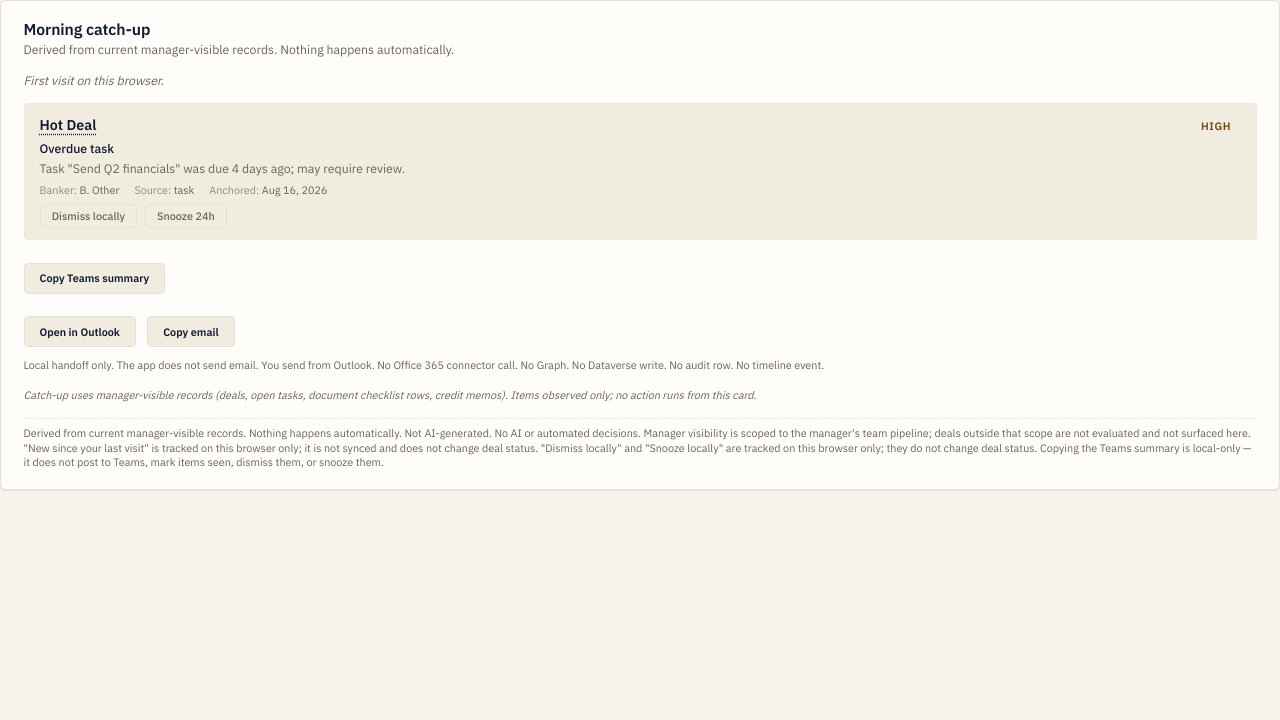
Test: ManagerMorningCatchUp — Phase 88 › Phase 98 — Copy Teams summary › shows "Clipboard unavailable. Select and copy manually." alert when clipboard is missing
Click the button with aria-label "Copy Teams summary for manager morning catch-up" at [94, 278], box [24,263,165,294]
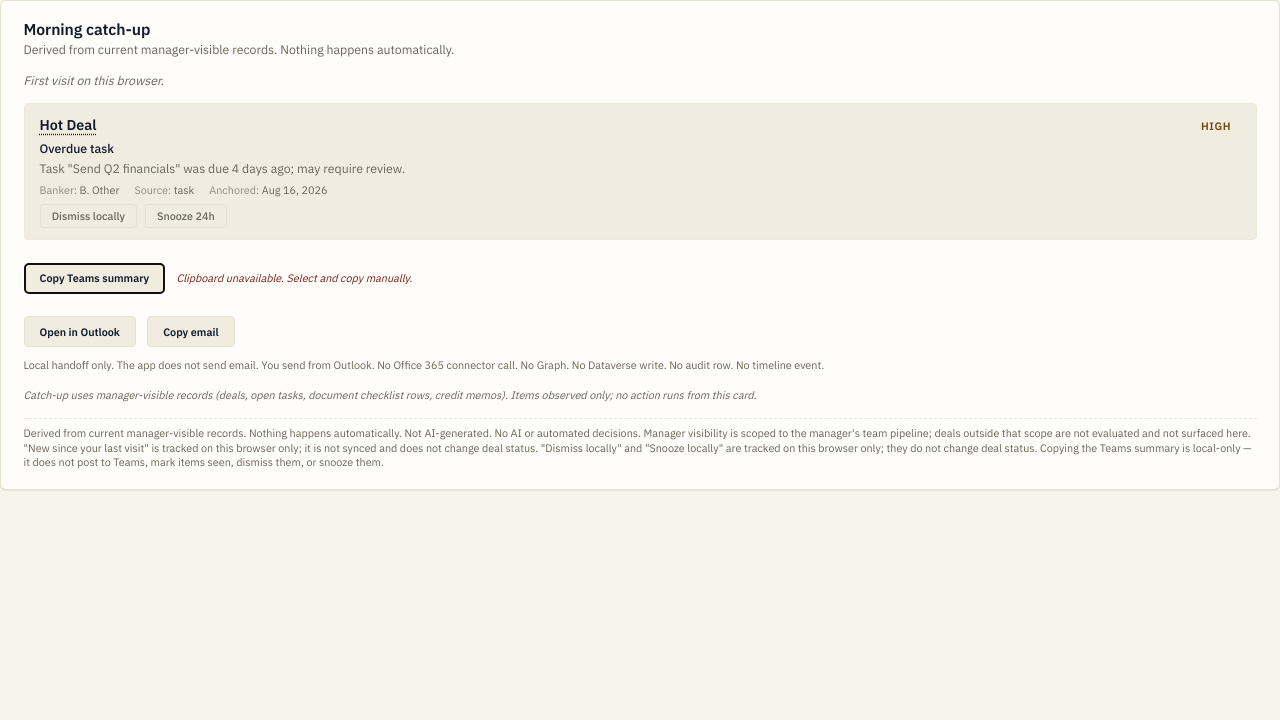
Expected: the message reads "Clipboard unavailable. Select and copy manually.", [176,271,412,285]
